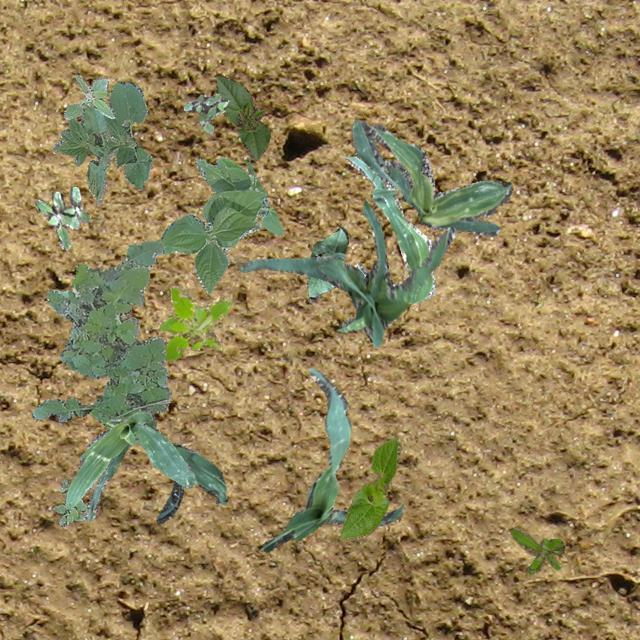crop: (240, 198, 456, 346), (259, 368, 402, 550), (350, 118, 510, 235), (160, 156, 282, 292), (62, 410, 196, 520), (342, 156, 434, 302), (50, 80, 152, 204), (106, 418, 227, 522), (338, 436, 400, 540), (216, 74, 270, 160), (306, 227, 348, 300)
weed: (31, 240, 170, 428), (157, 284, 230, 360), (34, 186, 90, 248), (509, 528, 564, 574), (62, 74, 114, 118), (182, 92, 228, 132), (52, 478, 86, 526)
